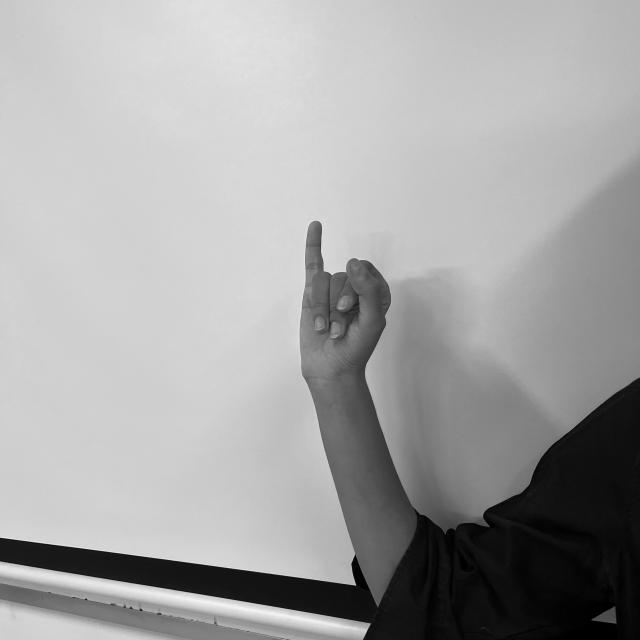Letra I: (296, 215, 396, 381)
